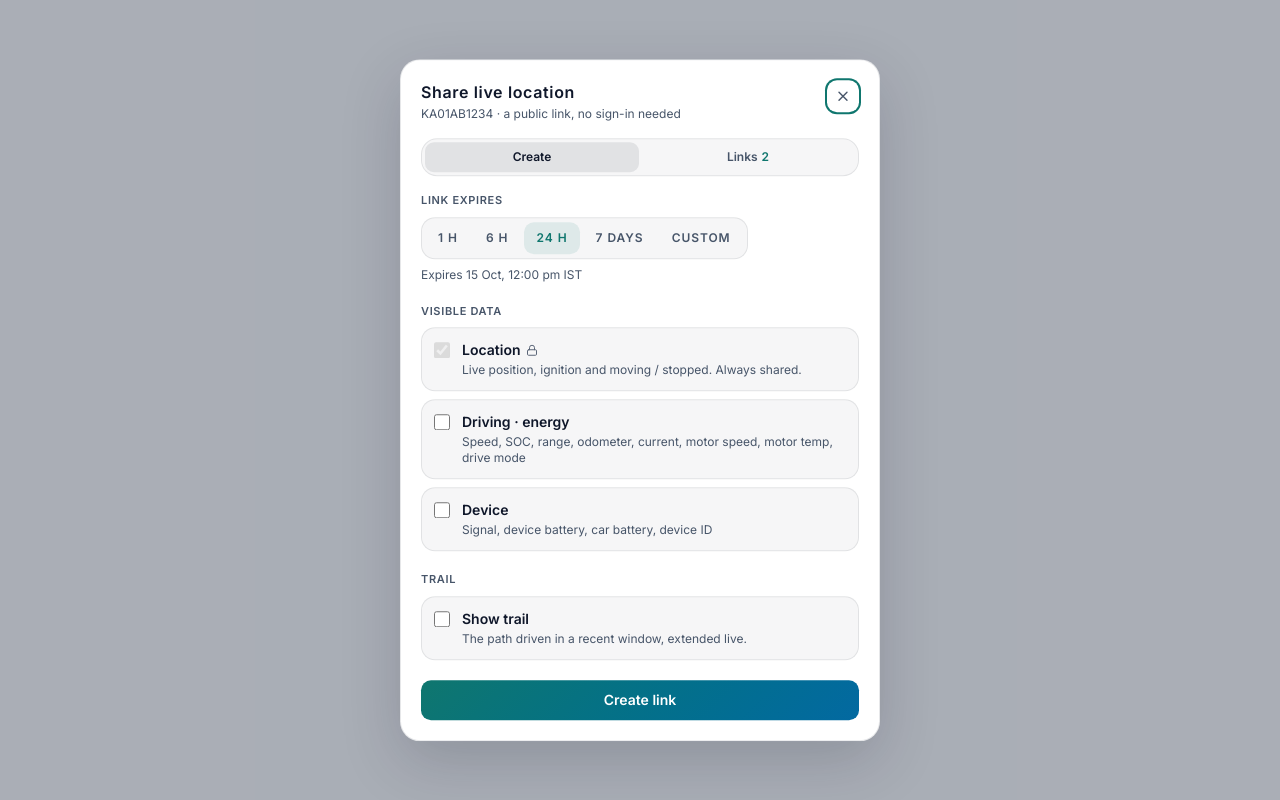
Test: F10-T2: share dialog › server errors show inline (422, 403)
Expected: the dialog "Share live location" is shown, [400,59,880,741]
Click the button "Create link".
click(640, 700)  # box [421,680,859,720]
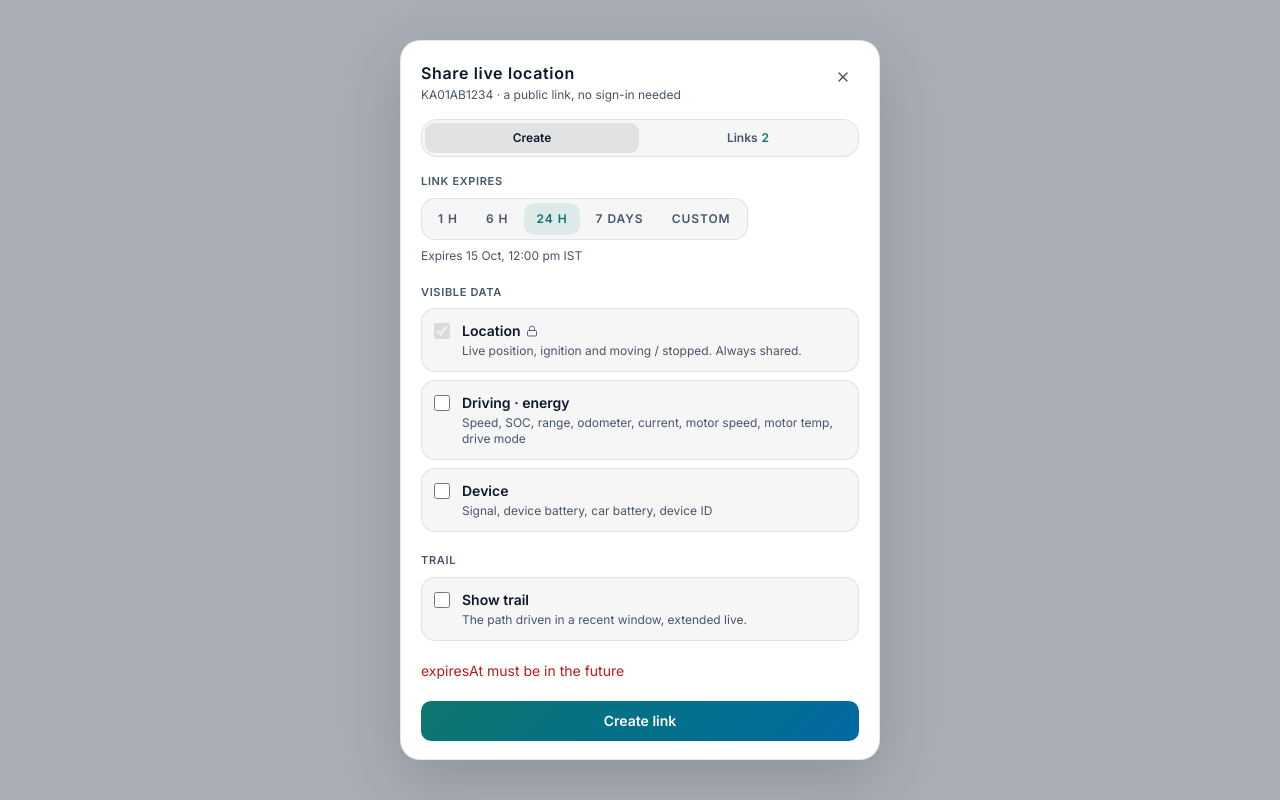
Expected: the message reads "expiresAt must be in the future", [421,662,624,678]
Click the button "Create link".
click(640, 720)  # box [421,700,859,740]
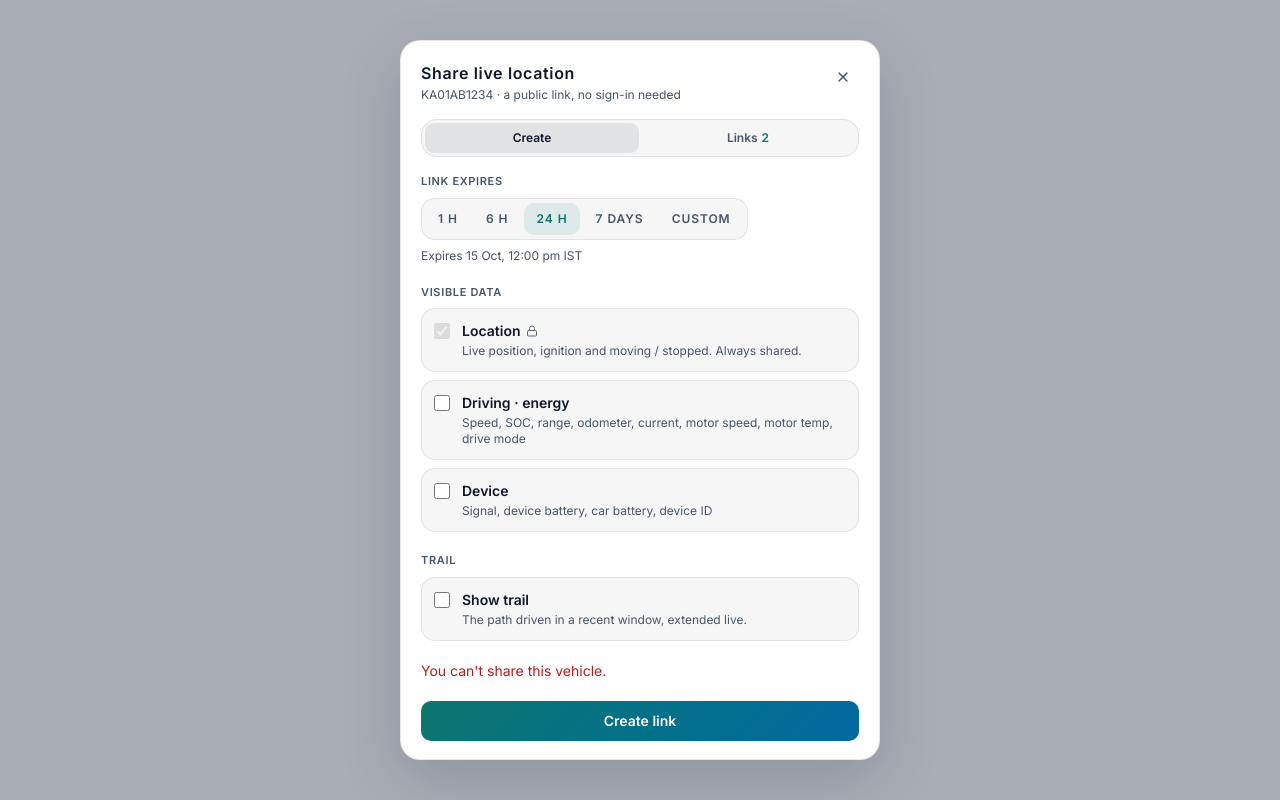
Expected: the message reads "You can't share this vehicle.", [421,662,606,678]
